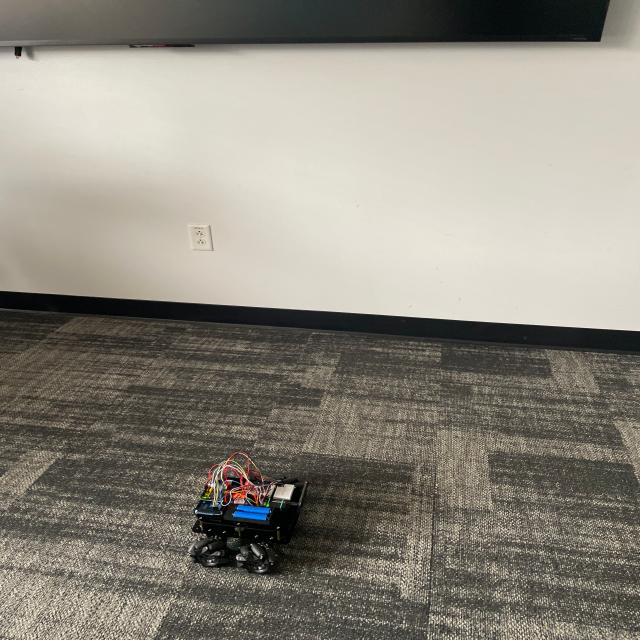ArduinoCar3: (180, 448, 306, 568)
